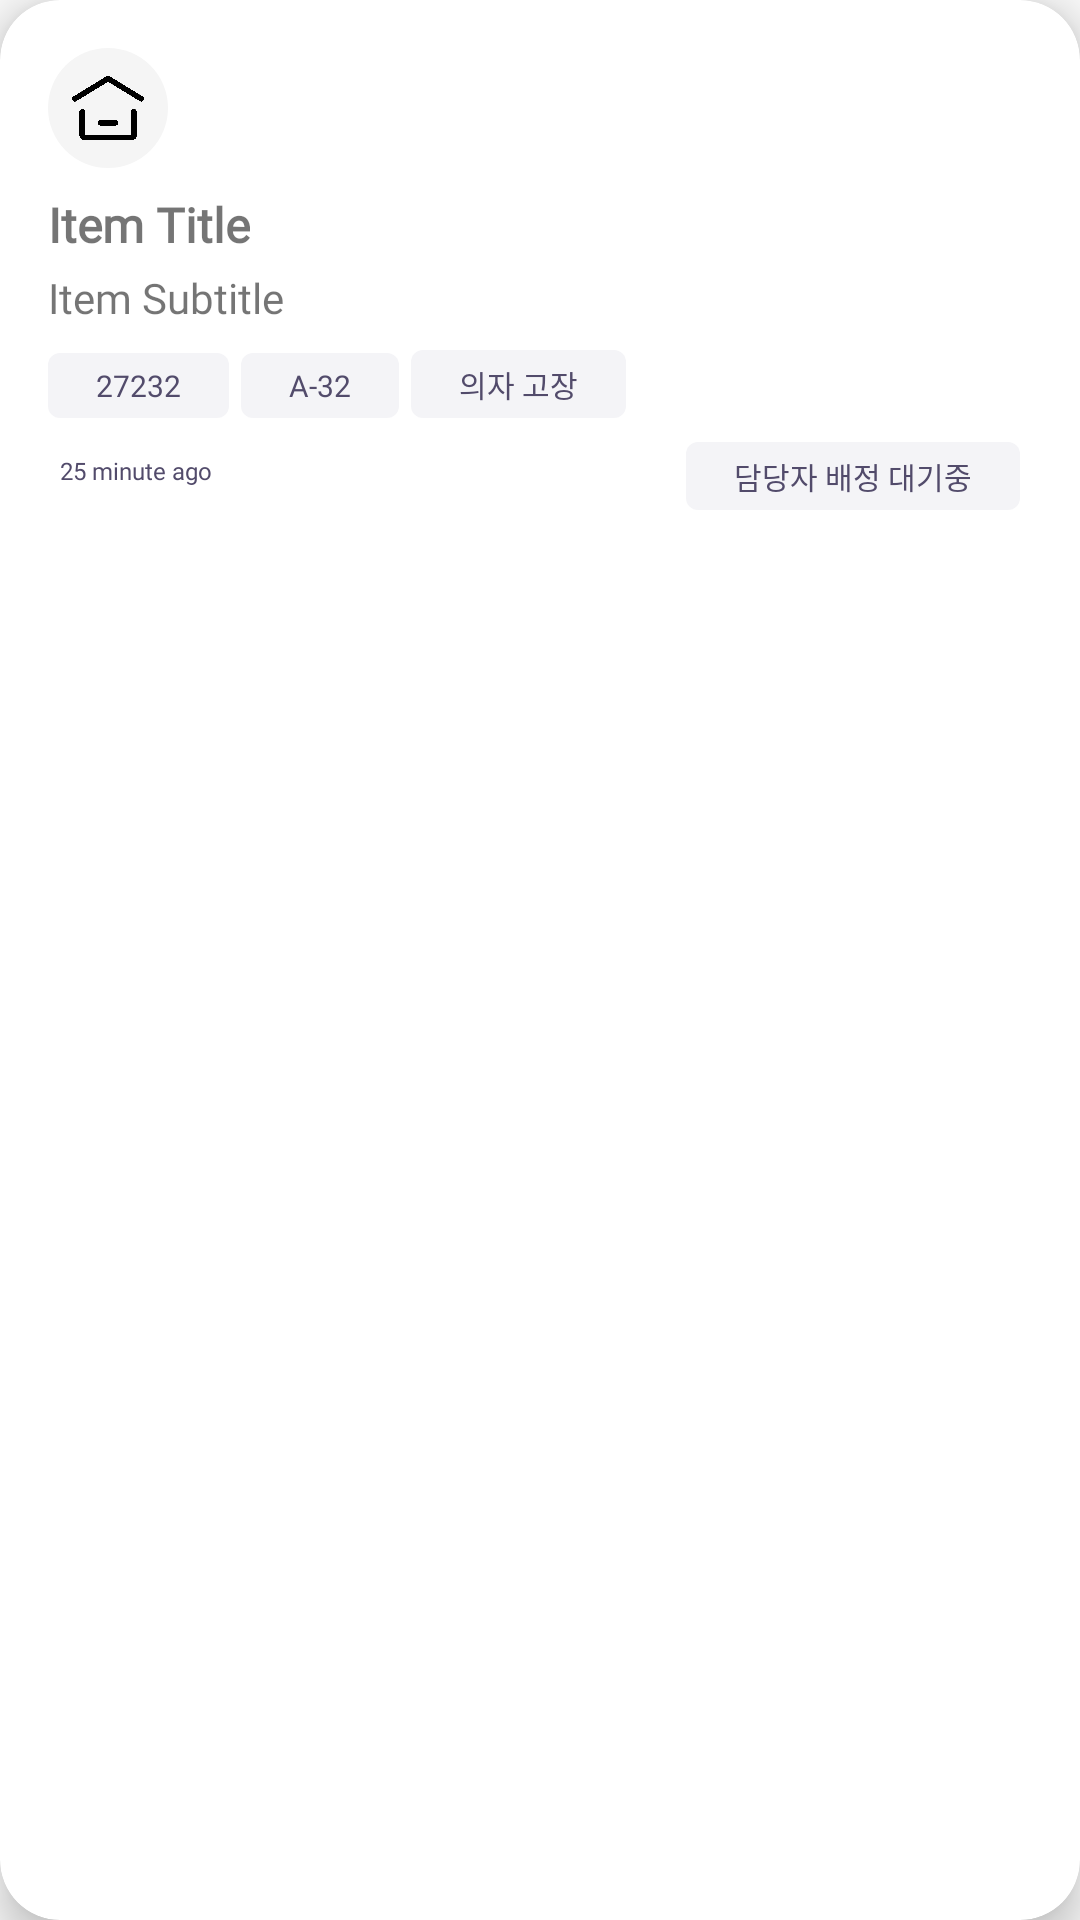

Locate icon controls on the screen. Image size 1080 × 1920, boxes as (x1, y1, x2, y2).
home: (48, 48, 168, 168)
